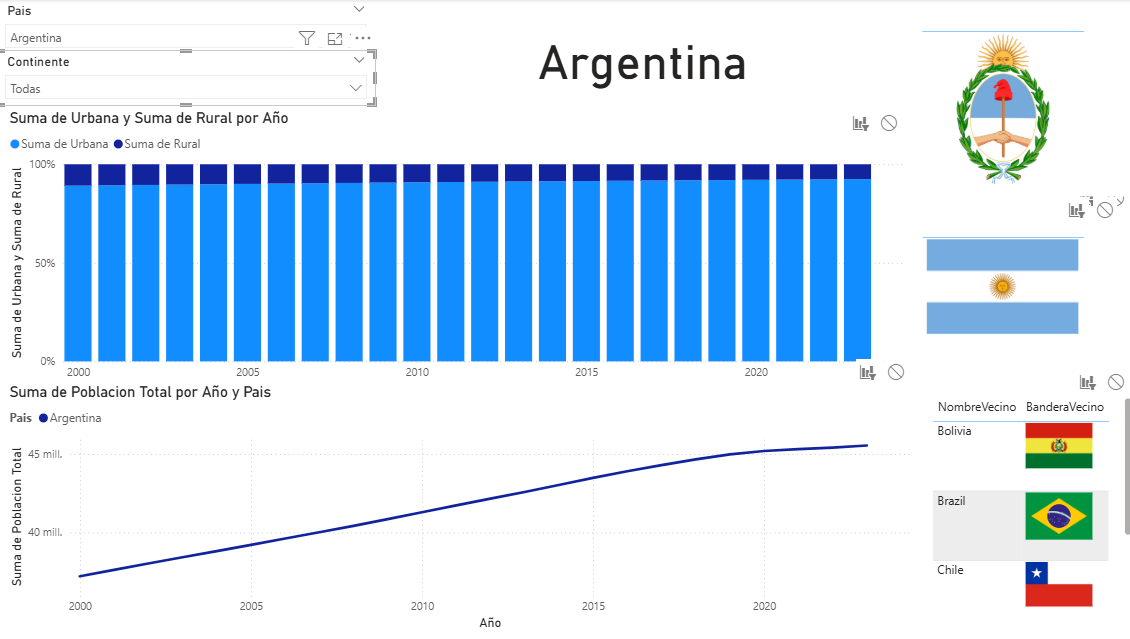

The dashboard page shown, as its layout file describes it:
{"tool":"powerbi","page":{"name":"Pais","canvas":[1280,720],"ordinal":0},"visuals":[{"type":"hundredPercentStackedColumnChart","fields":{"Y":["Sum(Population.Urbana)","Sum(Population.Rural)"],"Category":["Population.date"]},"box":[10.1,123.4,1015.2,326.5],"z":0},{"type":"tableEx","fields":{"Values":["countries.country_images.flag_png"]},"box":[1033.2,235.6,246.8,215.4],"z":2000},{"type":"card","fields":{"Values":["Min(countries.country_names.common_name)"]},"box":[426.3,4.5,599.1,118.9],"z":3000},{"type":"slicer","fields":{"Values":["countries.country_names.common_name"]},"box":[0,0,426.3,57.2],"z":4000},{"type":"lineChart","fields":{"Category":["Population.date"],"Series":["countries.country_names.common_name"],"Y":["Sum(Population.Poblacion)"]},"box":[10.1,430.8,1023.1,281.6],"z":5000},{"type":"tableEx","fields":{"Values":["country_borders.NombreVecino","country_borders.BanderaVecino"]},"box":[1045.5,442,234.5,270.4],"z":6000},{"type":"slicer","fields":{"Values":["countries.region"]},"box":[0,57.2,426.3,62.8],"z":6001},{"type":"tableEx","fields":{"Values":["countries.country_images.coa_png"]},"box":[1033.2,4.5,234.5,216.5],"z":6002}]}

Visuals, with their boxes in screenshot pixels (x1, y1, x2, y2), scaled from the page's 1280x720 canvas onto the 1130x639 screenshot:
hundredPercentStackedColumnChart - Sum(Population.Urbana) x Sum(Population.Rural): [9, 110, 905, 399]
tableEx - countries.country_images.flag_png: [912, 209, 1129, 400]
card - Min(countries.country_names.common_name): [376, 4, 905, 110]
slicer - countries.country_names.common_name: [0, 0, 376, 51]
lineChart - Population.date x countries.country_names.common_name: [9, 382, 912, 632]
tableEx - country_borders.NombreVecino x country_borders.BanderaVecino: [923, 392, 1129, 632]
slicer - countries.region: [0, 51, 376, 106]
tableEx - countries.country_images.coa_png: [912, 4, 1119, 196]
